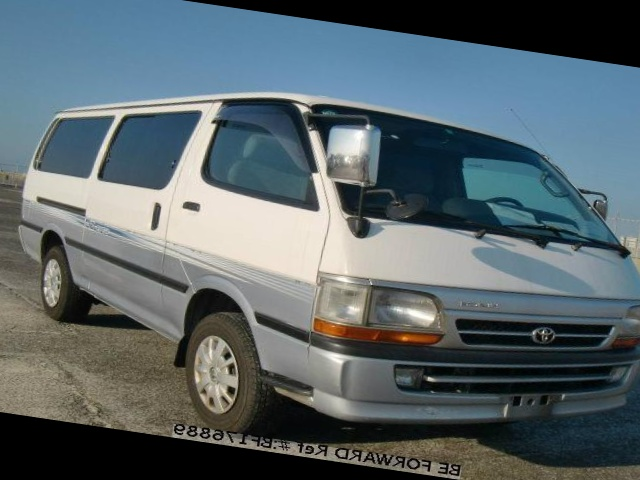van: (0, 56, 640, 480)
